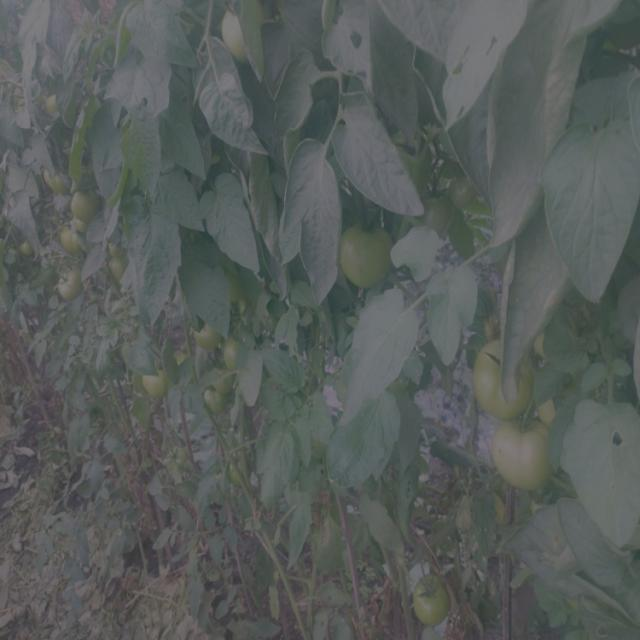tomato: (486, 407, 563, 497), (473, 338, 533, 418), (337, 210, 396, 283), (221, 3, 257, 71), (409, 576, 452, 627), (481, 491, 523, 530), (138, 361, 173, 403), (68, 187, 106, 225), (104, 248, 134, 289), (51, 266, 82, 305), (41, 157, 71, 197), (199, 383, 234, 417), (219, 336, 249, 373), (57, 222, 89, 256), (17, 234, 47, 268), (189, 313, 217, 349), (39, 88, 67, 119), (223, 452, 244, 489)
